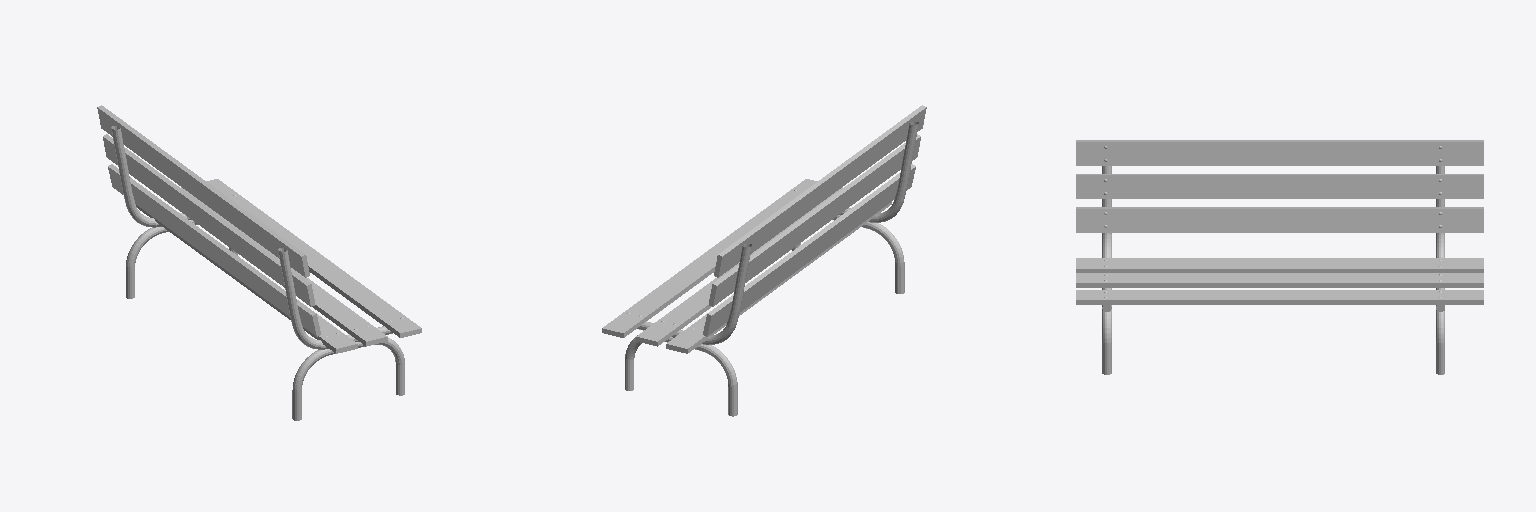
Rendered from bench.obj.
3 renders of one model, left to right at view 1: azimuth 30°, elevation 25°; view 2: azimuth 150°, elevation 25°; view 3: azimuth 270°, elevation 25°, orthographic.
Visible parts, largest first — view 1: kiti polySurface13, polySurface12 kiti; view 2: kiti polySurface13, polySurface12 kiti; view 3: kiti polySurface13, polySurface12 kiti.
Boxes of the visible parts, box(x1,y1,x2,y2) form: kiti polySurface13: box(97, 105, 421, 353); polySurface12 kiti: box(111, 126, 404, 420); kiti polySurface13: box(602, 105, 926, 353); polySurface12 kiti: box(625, 121, 918, 416); kiti polySurface13: box(1076, 140, 1483, 304); polySurface12 kiti: box(1102, 166, 1444, 374).
Bounding box in the file's own units: 21.77 × 28.95 × 60.39.